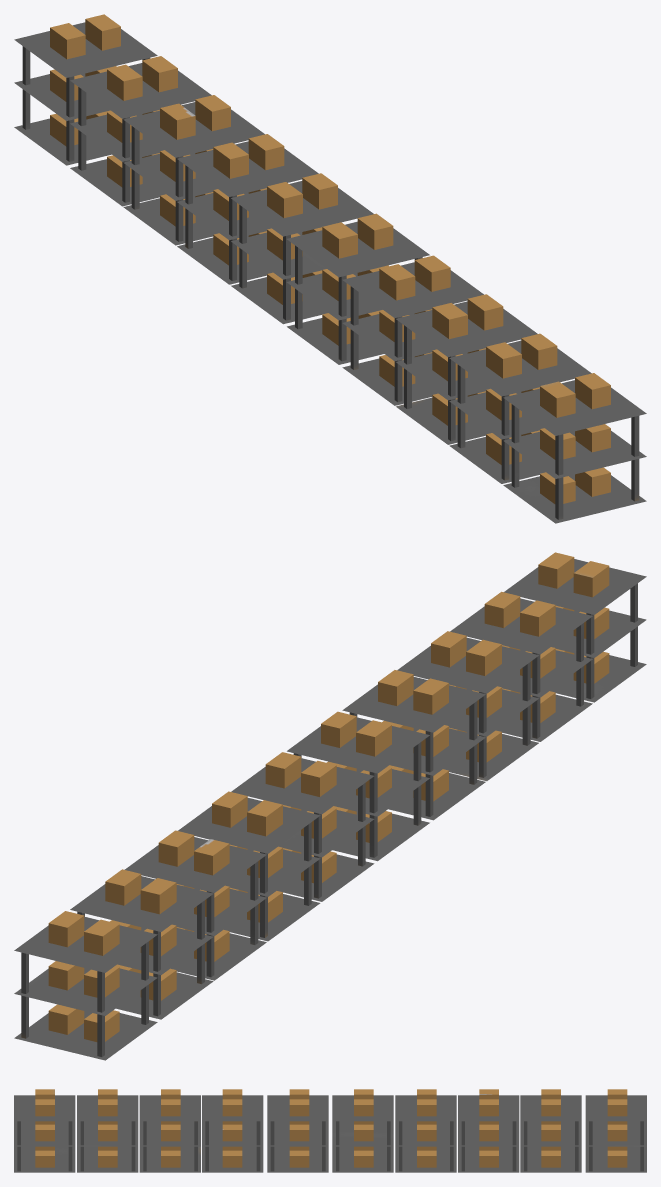
The model's file is EstanteriaCaja.obj.
3 renders of one model, top to bottom at view 1: azimuth 30°, elevation 25°; view 2: azimuth 150°, elevation 25°; view 3: azimuth 270°, elevation 25°, orthographic. The views are drawn at different scales.
Visible parts, largest first — view 1: EstanteriaCajas; view 2: EstanteriaCajas; view 3: EstanteriaCajas.
Part boxes in pixels (bbox=[...]): EstanteriaCajas: bbox=[14, 14, 646, 523]; EstanteriaCajas: bbox=[14, 552, 646, 1060]; EstanteriaCajas: bbox=[14, 1089, 646, 1172].
Size of the model in its own units: 2 by 2.24 by 20.52.
1 material, 1 textured.
